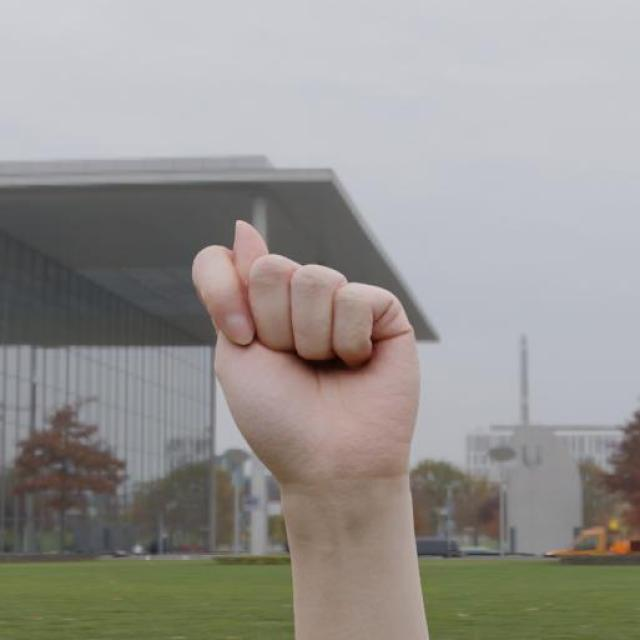T: (182, 215, 428, 490)
